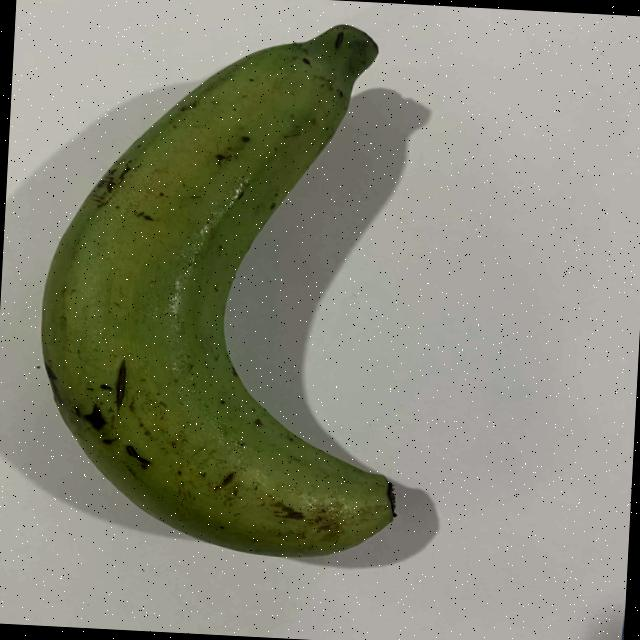Unripe: (0, 0, 525, 599)
